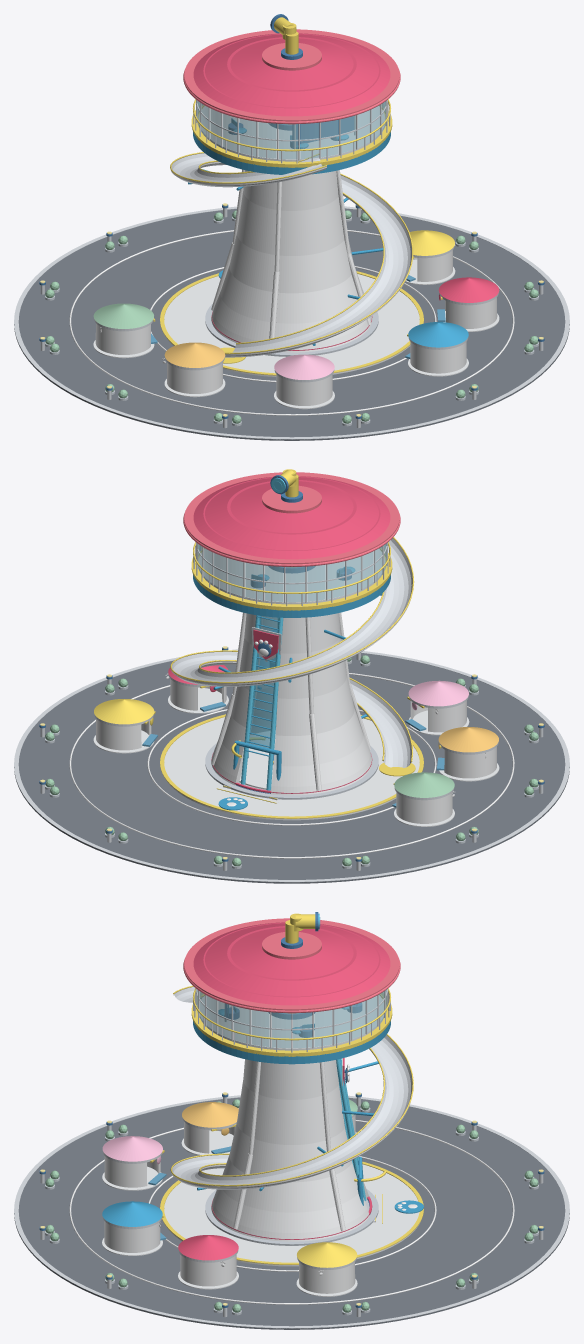
Rendered from paw-lookout-3d.glb.
3 views of the same model, one above another, from view 1: azimuth 30°, elevation 25°; view 2: azimuth 150°, elevation 25°; view 3: azimuth 270°, elevation 25° (orthographic).
Parts seen in each view (by area): view 1: HQ_road, HQ_shell, HQ_silver, HQ_enamel, HQ_red, HQ_floor, HQ_gold, HQ_glass, HQ_redrim, HQ_blue, HQ_green, HQ_concrete (+4 smaller); view 2: HQ_road, HQ_floor, HQ_silver, HQ_shell, HQ_red, HQ_enamel, HQ_gold, HQ_glass, HQ_redrim, HQ_blue, HQ_green, HQ_concrete (+6 smaller); view 3: HQ_road, HQ_shell, HQ_silver, HQ_floor, HQ_red, HQ_enamel, HQ_gold, HQ_glass, HQ_redrim, HQ_blue, HQ_concrete, HQ_green (+5 smaller).
Part boxes in pixels (x1=…): HQ_road: x1=14, y1=208, x2=569, y2=440; HQ_shell: x1=211, y1=170, x2=372, y2=352; HQ_silver: x1=14, y1=100, x2=569, y2=439; HQ_enamel: x1=69, y1=161, x2=514, y2=415; HQ_red: x1=193, y1=33, x2=499, y2=350; HQ_floor: x1=93, y1=106, x2=499, y2=409; HQ_gold: x1=153, y1=99, x2=454, y2=375; HQ_glass: x1=197, y1=101, x2=385, y2=159; HQ_redrim: x1=183, y1=29, x2=400, y2=124; HQ_blue: x1=188, y1=128, x2=468, y2=347; HQ_green: x1=45, y1=210, x2=538, y2=423; HQ_concrete: x1=45, y1=216, x2=538, y2=426; HQ_road: x1=14, y1=653, x2=569, y2=883; HQ_floor: x1=93, y1=549, x2=499, y2=826; HQ_silver: x1=14, y1=538, x2=569, y2=882; HQ_shell: x1=211, y1=613, x2=372, y2=795; HQ_red: x1=168, y1=476, x2=390, y2=793; HQ_enamel: x1=69, y1=602, x2=514, y2=858; HQ_gold: x1=94, y1=537, x2=441, y2=818; HQ_glass: x1=198, y1=543, x2=386, y2=602; HQ_redrim: x1=183, y1=472, x2=400, y2=566; HQ_blue: x1=193, y1=567, x2=390, y2=810; HQ_green: x1=45, y1=655, x2=538, y2=866; HQ_concrete: x1=45, y1=659, x2=538, y2=868; HQ_road: x1=14, y1=1097, x2=569, y2=1329; HQ_shell: x1=211, y1=1059, x2=369, y2=1241; HQ_silver: x1=14, y1=986, x2=569, y2=1328; HQ_floor: x1=102, y1=995, x2=420, y2=1296; HQ_red: x1=178, y1=922, x2=390, y2=1260; HQ_enamel: x1=69, y1=994, x2=514, y2=1304; HQ_gold: x1=150, y1=985, x2=423, y2=1267; HQ_glass: x1=197, y1=989, x2=386, y2=1048; HQ_redrim: x1=183, y1=918, x2=400, y2=1013; HQ_blue: x1=102, y1=1006, x2=423, y2=1226; HQ_concrete: x1=45, y1=1107, x2=538, y2=1315; HQ_green: x1=45, y1=1099, x2=538, y2=1312.
Size of the model in its own units: 47.4 by 28.17 by 47.4.
